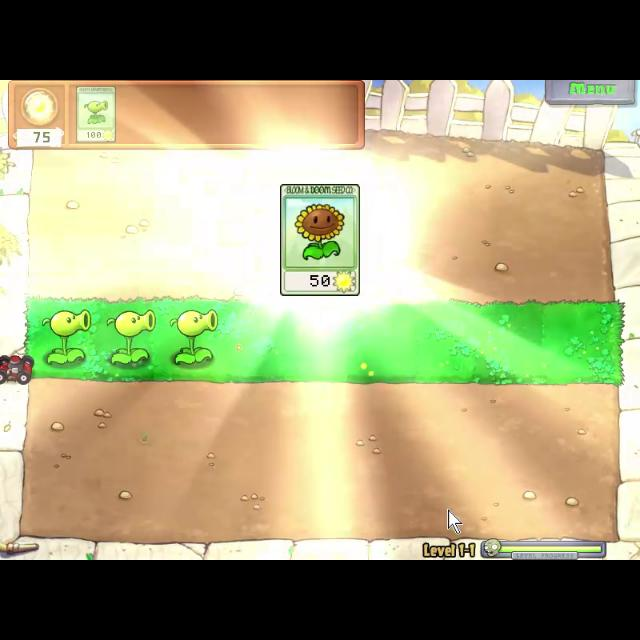Menu Button: (542, 80, 636, 108)
Mower: (1, 352, 34, 384)
Peashooter: (75, 84, 117, 144)
Peashooter Seed: (104, 307, 160, 371), (40, 306, 94, 368), (168, 307, 218, 365)
Seed Panel: (6, 80, 370, 152)
